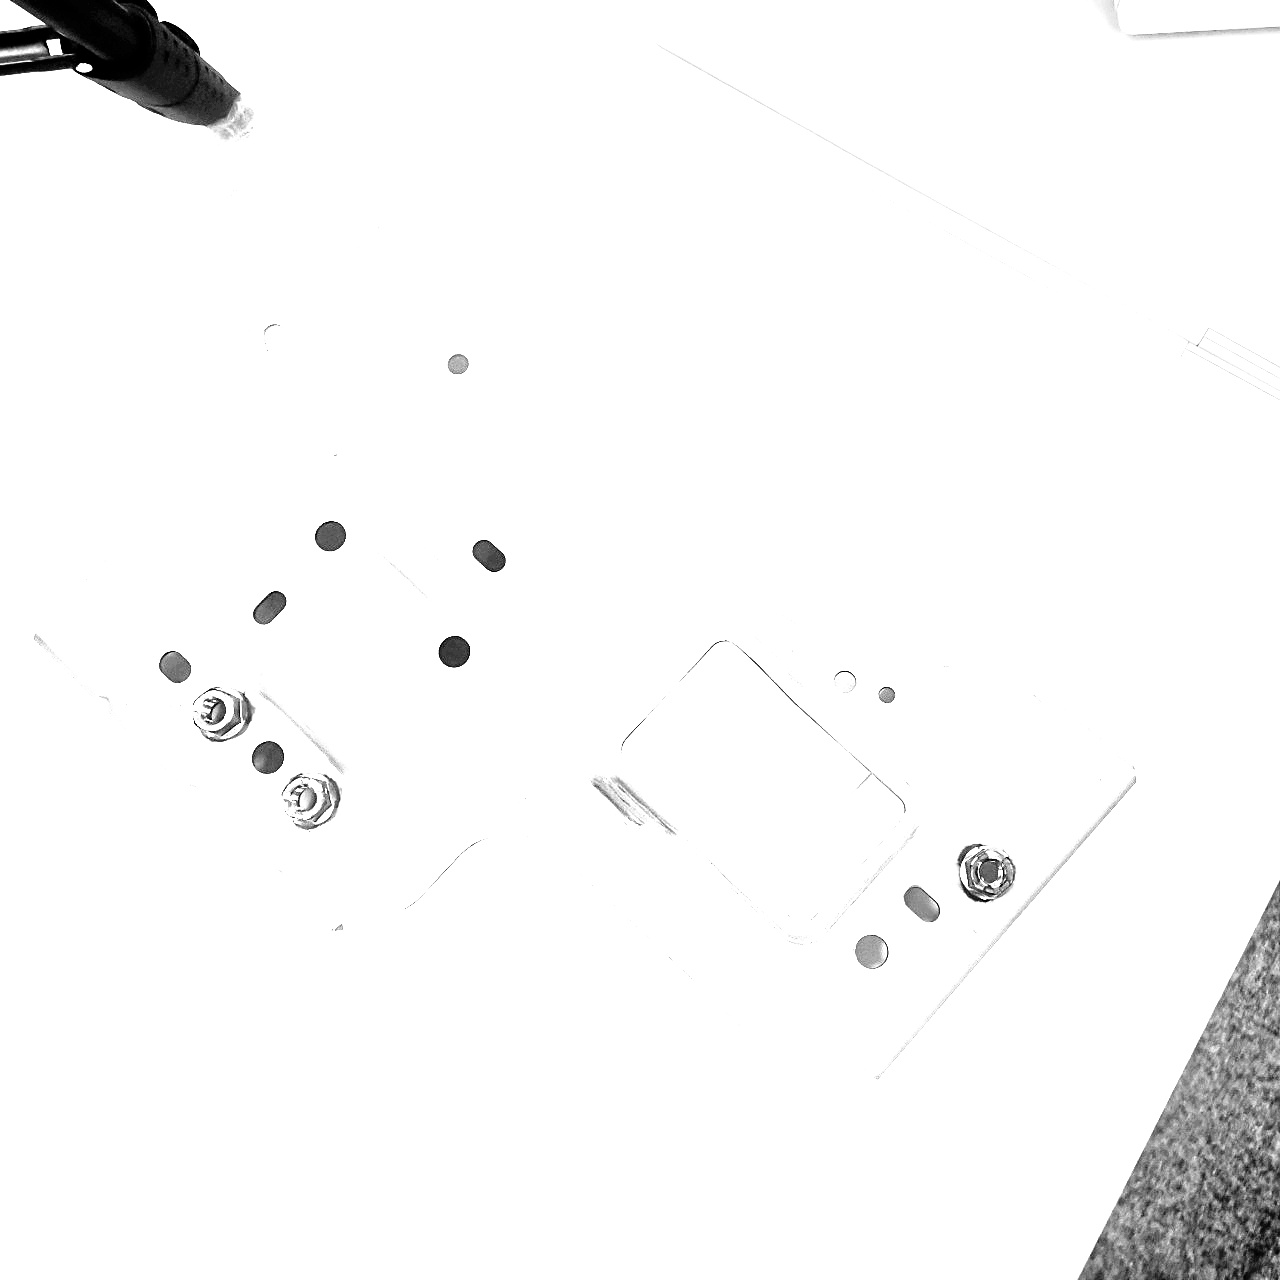dog: (954, 838, 1020, 908), (274, 768, 346, 832), (186, 682, 254, 745)
